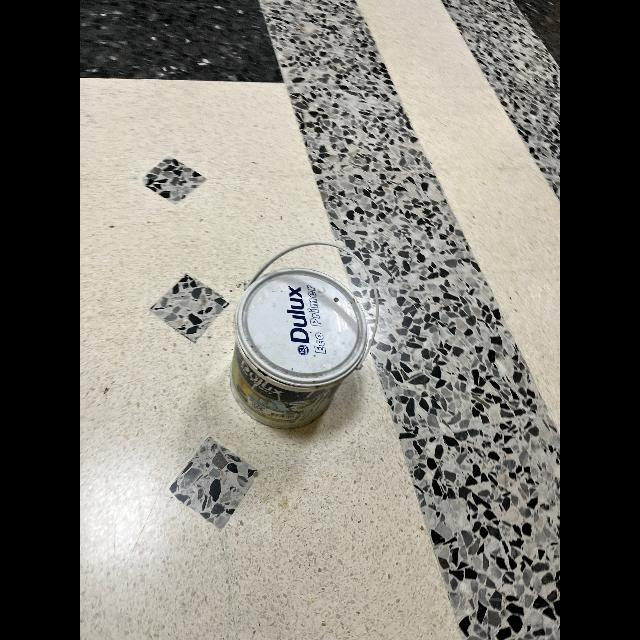paint_bucket: (230, 258, 366, 444)
